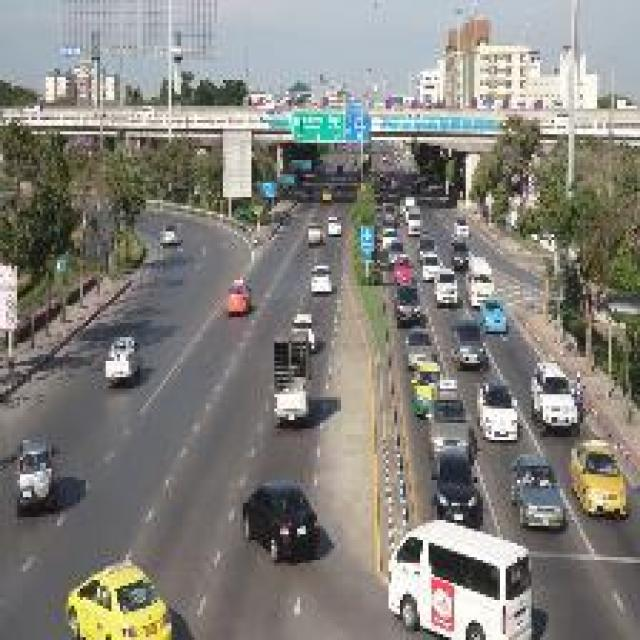other: (59, 559, 179, 632), (566, 441, 634, 528)
